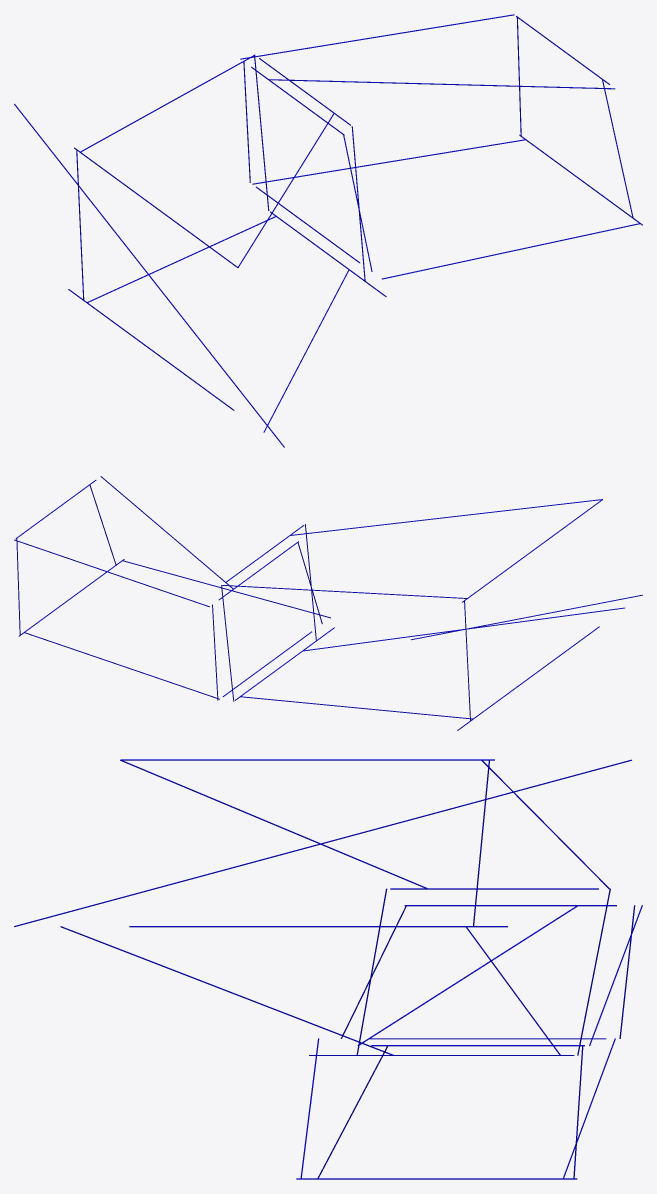
Rendered from corrected_3d_strokes.glb.
3 views of the same model, one above another, from view 1: azimuth 30°, elevation 25°; view 2: azimuth 150°, elevation 25°; view 3: azimuth 270°, elevation 25° (orthographic). The views are drawn at different scales.
Parts seen in each view (by area): view 1: world; view 2: world; view 3: world.
Part boxes in pixels (box(x1,y1,x2,y2)): world: box(14, 14, 642, 447); world: box(14, 476, 642, 730); world: box(14, 759, 642, 1179).
Size of the model in its own units: 19.09 by 5.54 by 18.84.
